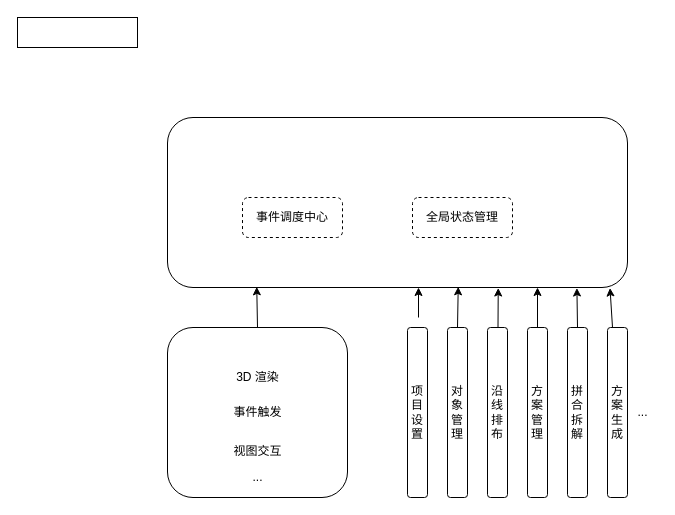
Some shapes in this 675 by 515 pixel diagram are drawn without their labels. The box of each missing label's shape, as (x1, y1, x2, y2) in pixels:
cad_core: (166, 326, 348, 498)
Version.20220728: (16, 16, 138, 48)
主项目 frontend_cad / re_fronted_cad: (166, 116, 628, 288)
